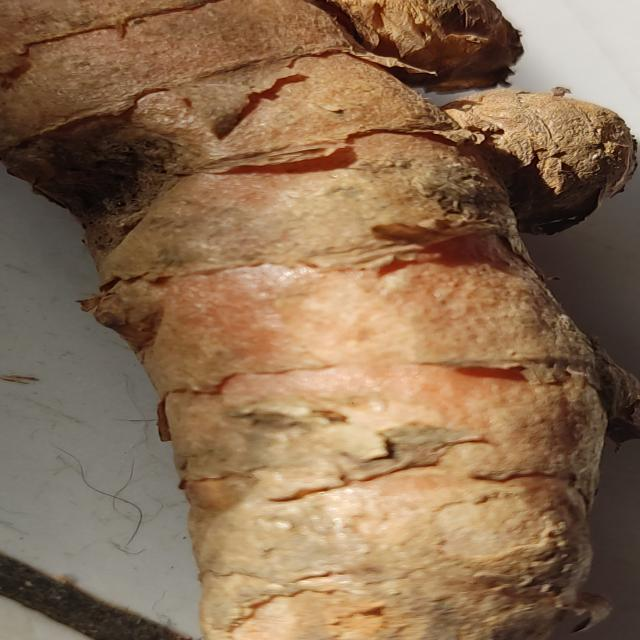ginger: (0, 0, 598, 610)
